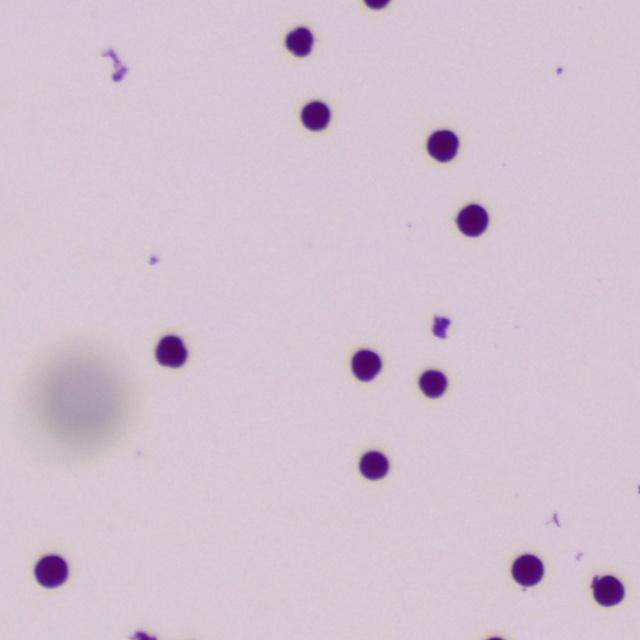viable: (35, 555, 67, 588), (427, 130, 458, 162), (512, 554, 543, 586), (156, 336, 187, 367), (458, 204, 488, 236), (594, 575, 624, 605), (352, 349, 381, 380), (301, 101, 330, 130), (359, 451, 388, 480), (285, 27, 313, 56), (419, 370, 447, 397), (363, 0, 390, 10)
